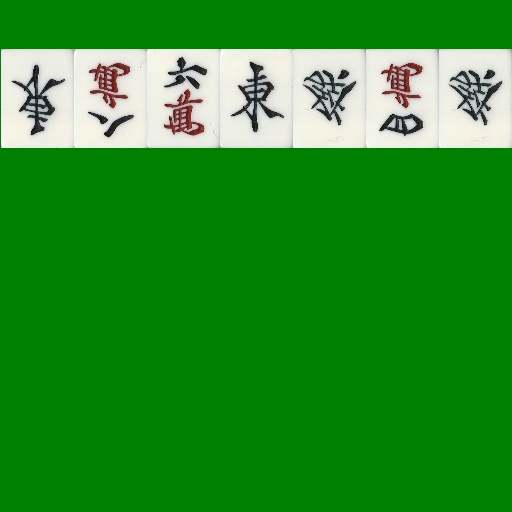4m: (366, 49, 439, 148)
6m: (147, 49, 220, 148)
8m: (74, 49, 147, 148)
east: (1, 49, 74, 148), (220, 49, 293, 148)
hatsu: (293, 49, 366, 148), (439, 49, 512, 148)
